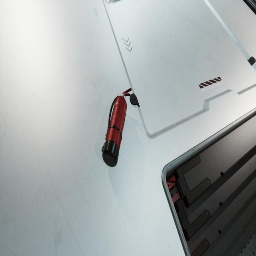FireExtinguisher ]: (102, 88, 132, 167)
